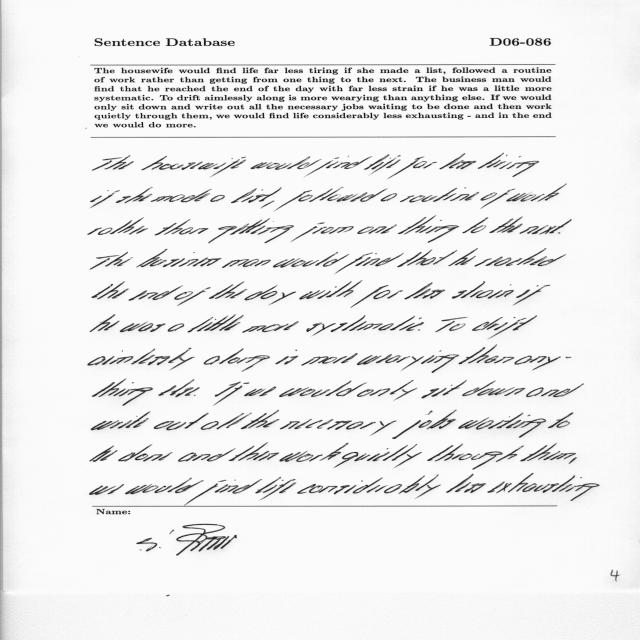word: (297, 475, 441, 499), (488, 473, 600, 501), (275, 187, 387, 211), (427, 444, 524, 470), (306, 315, 424, 336), (88, 348, 195, 370), (357, 350, 459, 373), (459, 412, 547, 438), (208, 218, 294, 243), (334, 444, 422, 468), (185, 479, 263, 506), (142, 156, 246, 176), (392, 410, 457, 439), (280, 419, 396, 435), (475, 249, 567, 267), (398, 216, 459, 243), (92, 379, 153, 406), (204, 348, 270, 372), (472, 315, 537, 339), (136, 249, 222, 267), (478, 153, 539, 177), (335, 253, 404, 274), (279, 381, 367, 397), (125, 478, 203, 495), (307, 156, 373, 176), (280, 443, 349, 462), (400, 187, 479, 203), (350, 285, 403, 308), (357, 380, 417, 400), (291, 223, 354, 242), (299, 281, 362, 300), (273, 252, 349, 267), (388, 156, 437, 179), (92, 412, 151, 431), (452, 281, 514, 299), (506, 184, 567, 202), (88, 217, 148, 235), (459, 345, 515, 364), (520, 443, 576, 462), (398, 250, 458, 267), (245, 285, 296, 305), (188, 315, 244, 333), (251, 156, 322, 170), (118, 444, 173, 462), (462, 381, 525, 396), (255, 477, 296, 500), (154, 413, 209, 430), (155, 219, 209, 236), (229, 443, 279, 461), (201, 413, 252, 430), (129, 285, 183, 301), (515, 356, 572, 371), (520, 219, 572, 235), (421, 380, 467, 398), (231, 187, 282, 203), (178, 448, 236, 462), (215, 382, 250, 405), (151, 189, 212, 202), (446, 474, 486, 493), (158, 379, 200, 397), (526, 384, 584, 397), (301, 353, 358, 366), (364, 154, 401, 174), (513, 285, 550, 305), (90, 252, 133, 269), (241, 410, 279, 429), (174, 287, 211, 306), (481, 189, 516, 209), (404, 283, 445, 300), (209, 281, 247, 299), (242, 321, 299, 333), (92, 155, 134, 171), (92, 282, 129, 300), (440, 154, 477, 170), (116, 187, 153, 203), (489, 217, 523, 233), (91, 190, 120, 208), (448, 249, 478, 266), (90, 315, 120, 332), (435, 317, 467, 332), (120, 322, 165, 332), (222, 259, 271, 268), (90, 446, 117, 462), (463, 218, 489, 234), (357, 224, 397, 234), (548, 413, 573, 429), (90, 484, 124, 495), (276, 350, 298, 365), (244, 387, 276, 397), (381, 193, 397, 202), (168, 323, 184, 332), (210, 195, 225, 202), (261, 201, 274, 209), (569, 457, 577, 464), (558, 232, 560, 234), (418, 329, 420, 331), (194, 395, 196, 396)
